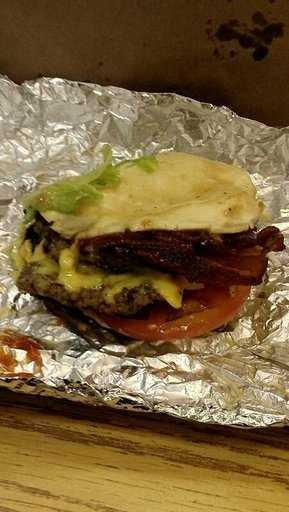hamburger: (14, 145, 280, 373)
